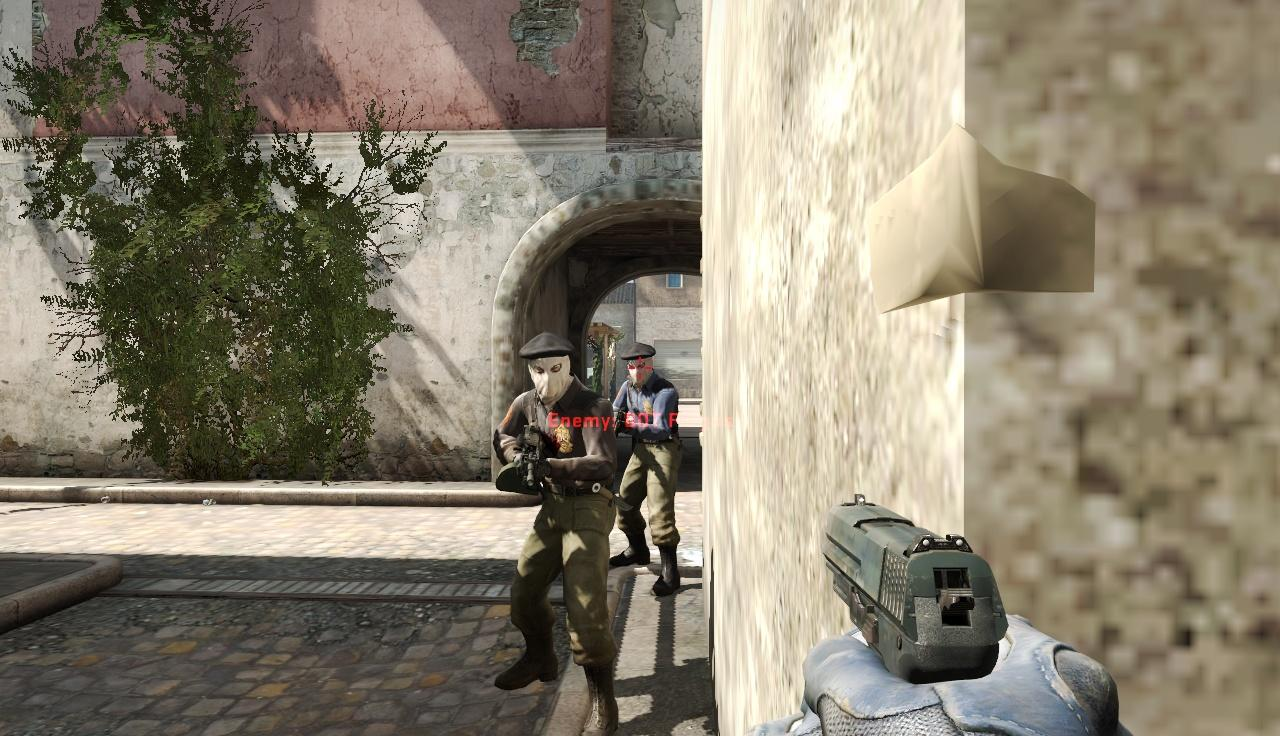pistol: (794, 486, 1123, 736)
tt: (508, 332, 613, 704), (616, 342, 679, 586)
tthead: (530, 336, 571, 398), (627, 344, 655, 384)
